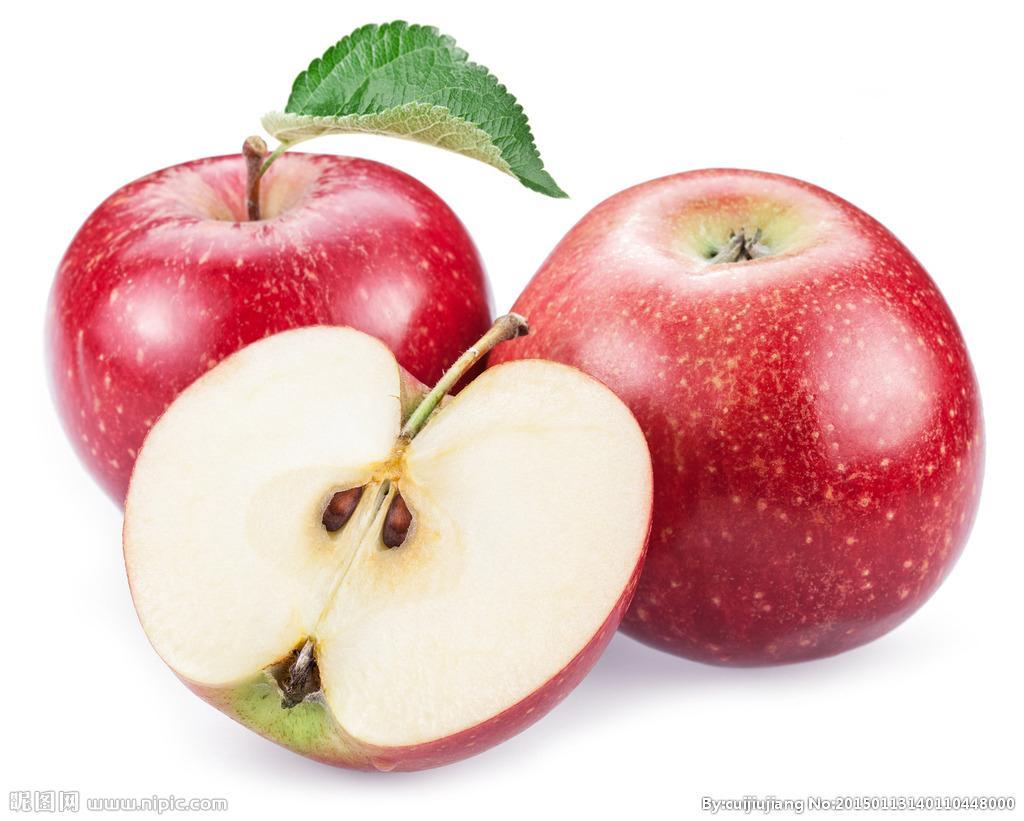apple: (477, 163, 981, 668), (53, 143, 509, 500)
